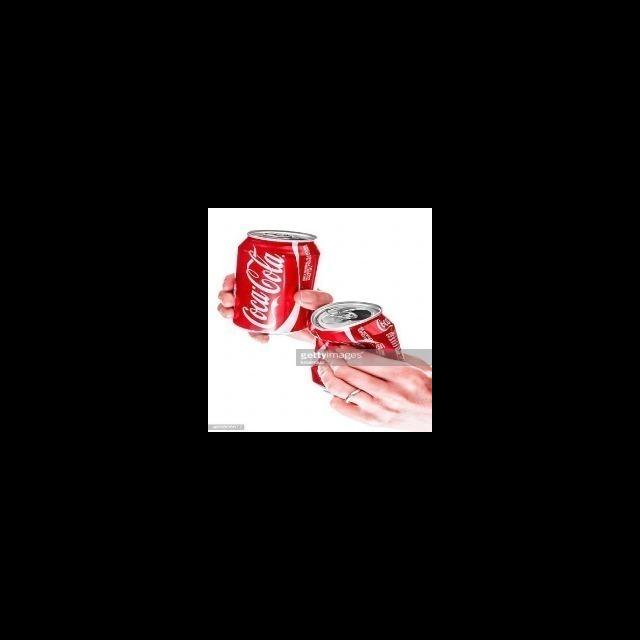metal: (300, 299, 404, 395), (236, 225, 320, 340)
